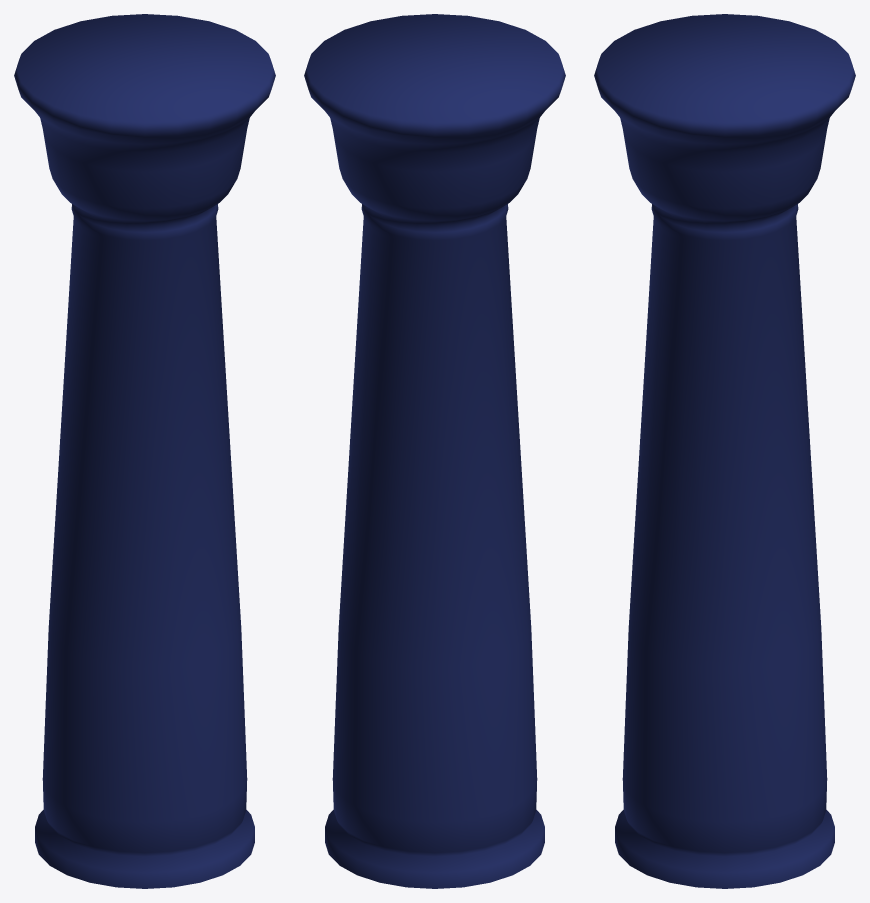
Rendered from pillar1.fbx.
3 views of the same model, side by side, from view 1: azimuth 30°, elevation 25°; view 2: azimuth 150°, elevation 25°; view 3: azimuth 270°, elevation 25° (orthographic).
Visible parts, largest first — view 1: pillar1_low; view 2: pillar1_low; view 3: pillar1_low.
Part boxes in pixels (x1=…): pillar1_low: x1=14, y1=14, x2=275, y2=888; pillar1_low: x1=304, y1=14, x2=565, y2=888; pillar1_low: x1=594, y1=14, x2=855, y2=888.
Bounding box in the file's own units: 1677 × 1677 × 5472.
